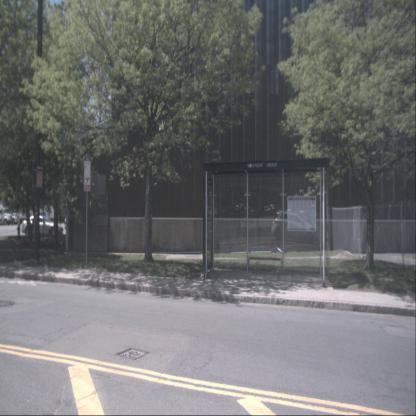vehicle-car: (271, 210, 316, 244), (21, 215, 63, 236)
vehicle-truck: (0, 207, 13, 226)
